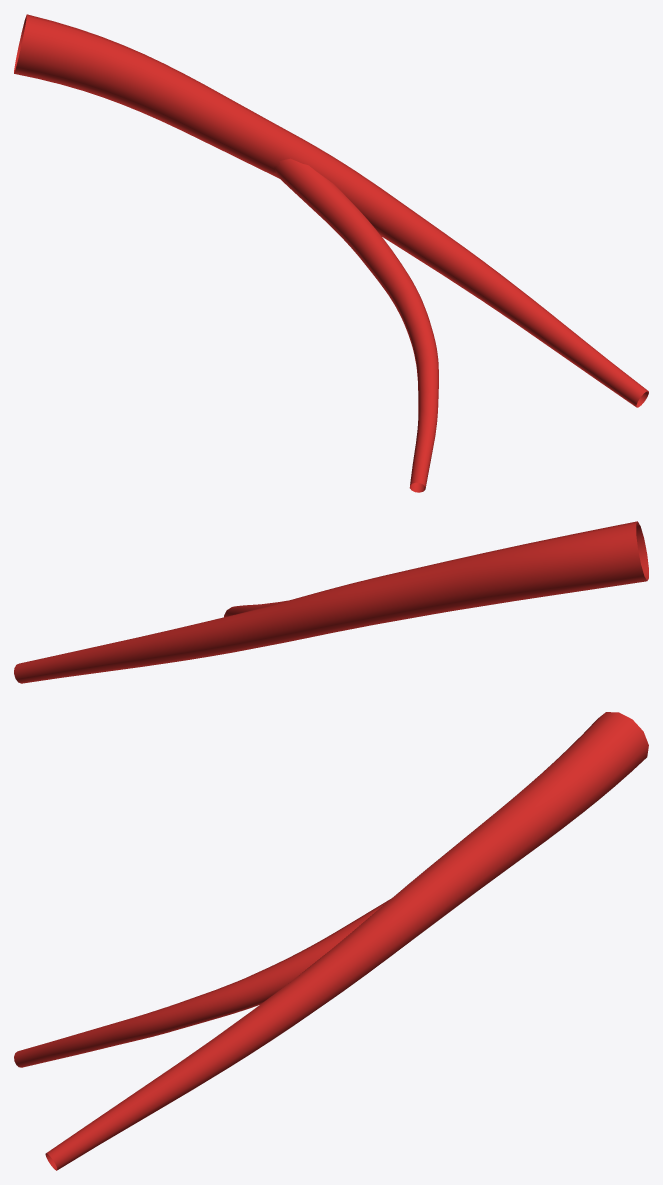
The model's file is circulatorio-superior-lingular-vein-of-left-lung.glb.
3 views of the same model, one above another, from view 1: azimuth 30°, elevation 25°; view 2: azimuth 210°, elevation 25°; view 3: azimuth 270°, elevation 25° (orthographic). The views are drawn at different scales.
Parts seen in each view (by area): view 1: Superior lingular vein of left lung; view 2: Superior lingular vein of left lung; view 3: Superior lingular vein of left lung.
Part boxes in pixels (left/top/right/bottom): Superior lingular vein of left lung: left=14, top=14, right=648, bottom=492; Superior lingular vein of left lung: left=14, top=521, right=648, bottom=683; Superior lingular vein of left lung: left=14, top=712, right=648, bottom=1170.
Size of the model in its own units: 0.042 by 0.0315 by 0.0601.
